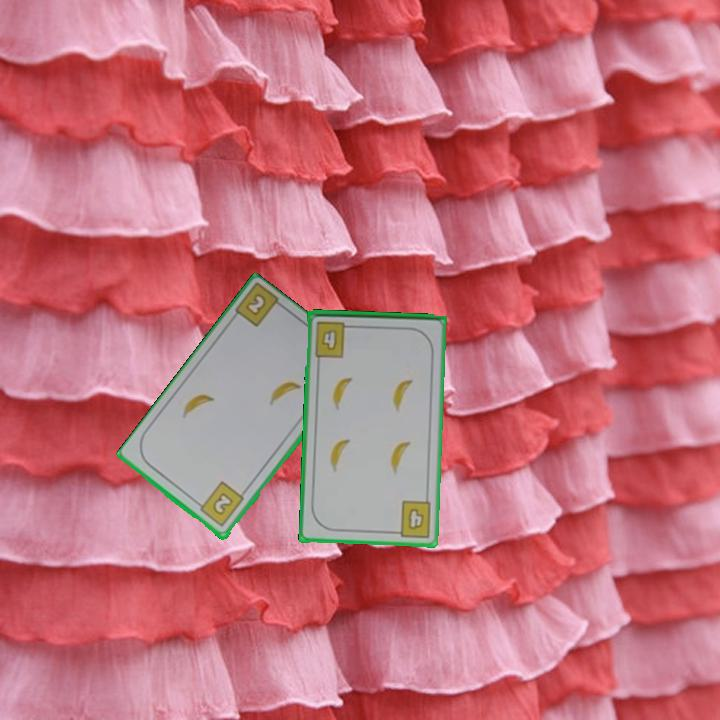2b: (193, 478, 247, 530), (242, 290, 269, 319)
4b: (389, 497, 434, 540), (312, 317, 356, 360)
